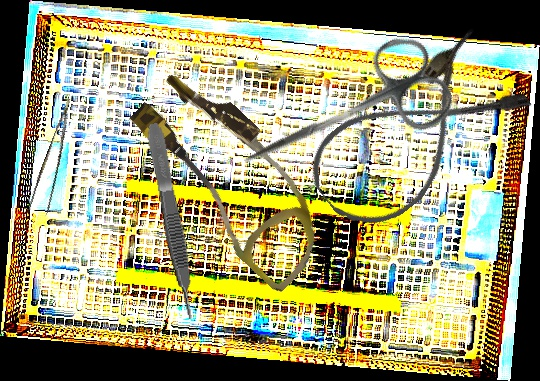Cannula: (111, 59, 353, 295), (295, 24, 536, 246)
Iris Scissors: (224, 25, 461, 209)
Tissue Forceps: (143, 121, 200, 322), (23, 98, 89, 222)
